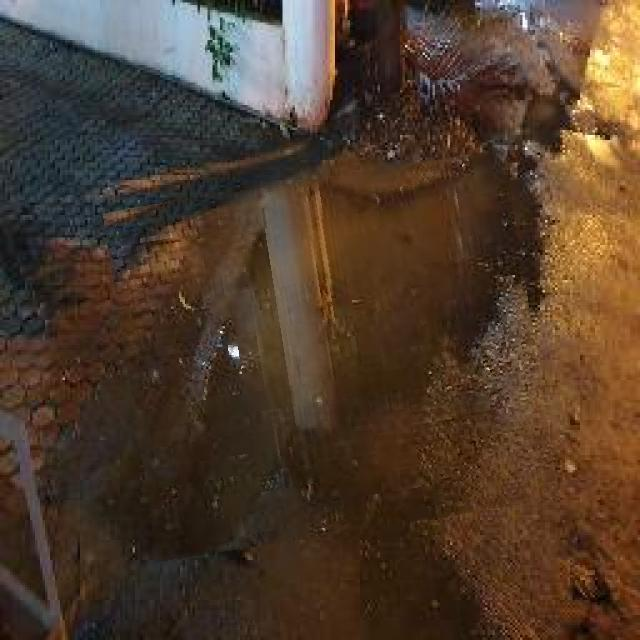puddle: (115, 165, 548, 549)
